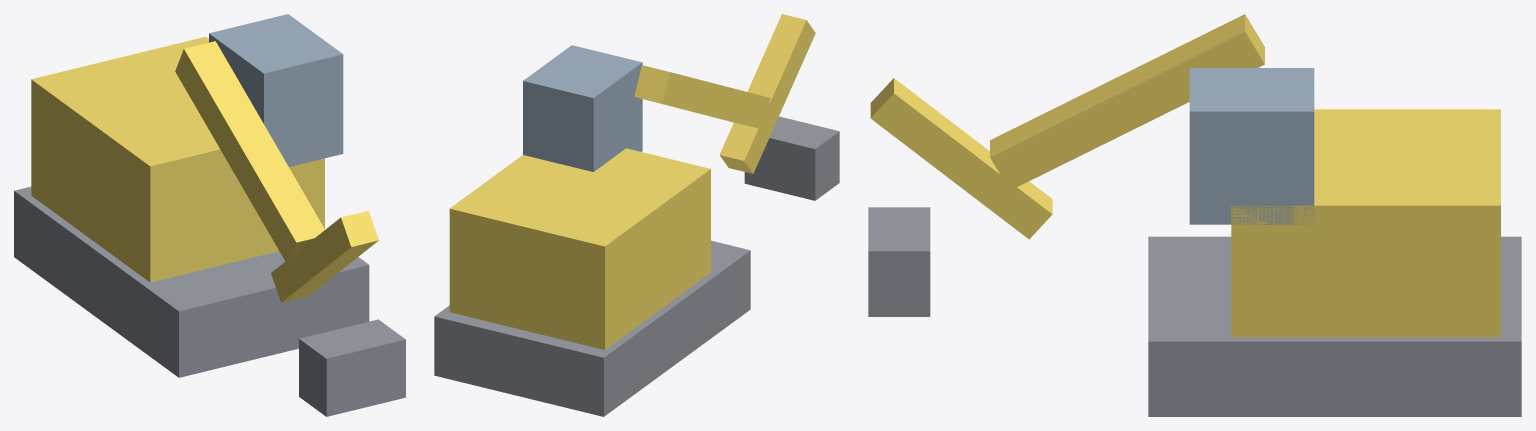
Rendered from excavator.glb.
The picture shows the model from 3 angles, left to right: view 1: azimuth 30°, elevation 25°; view 2: azimuth 150°, elevation 25°; view 3: azimuth 270°, elevation 25°; orthographic projection. The views are drawn at different scales.
Parts seen in each view (by area): view 1: excavator; view 2: excavator; view 3: excavator.
Part boxes in pixels (x1,y1,x2,y2): excavator: [14, 14, 405, 416]; excavator: [434, 14, 839, 416]; excavator: [868, 14, 1521, 416].
Size of the model in its own units: 2.4 by 3.45 by 6.3.
